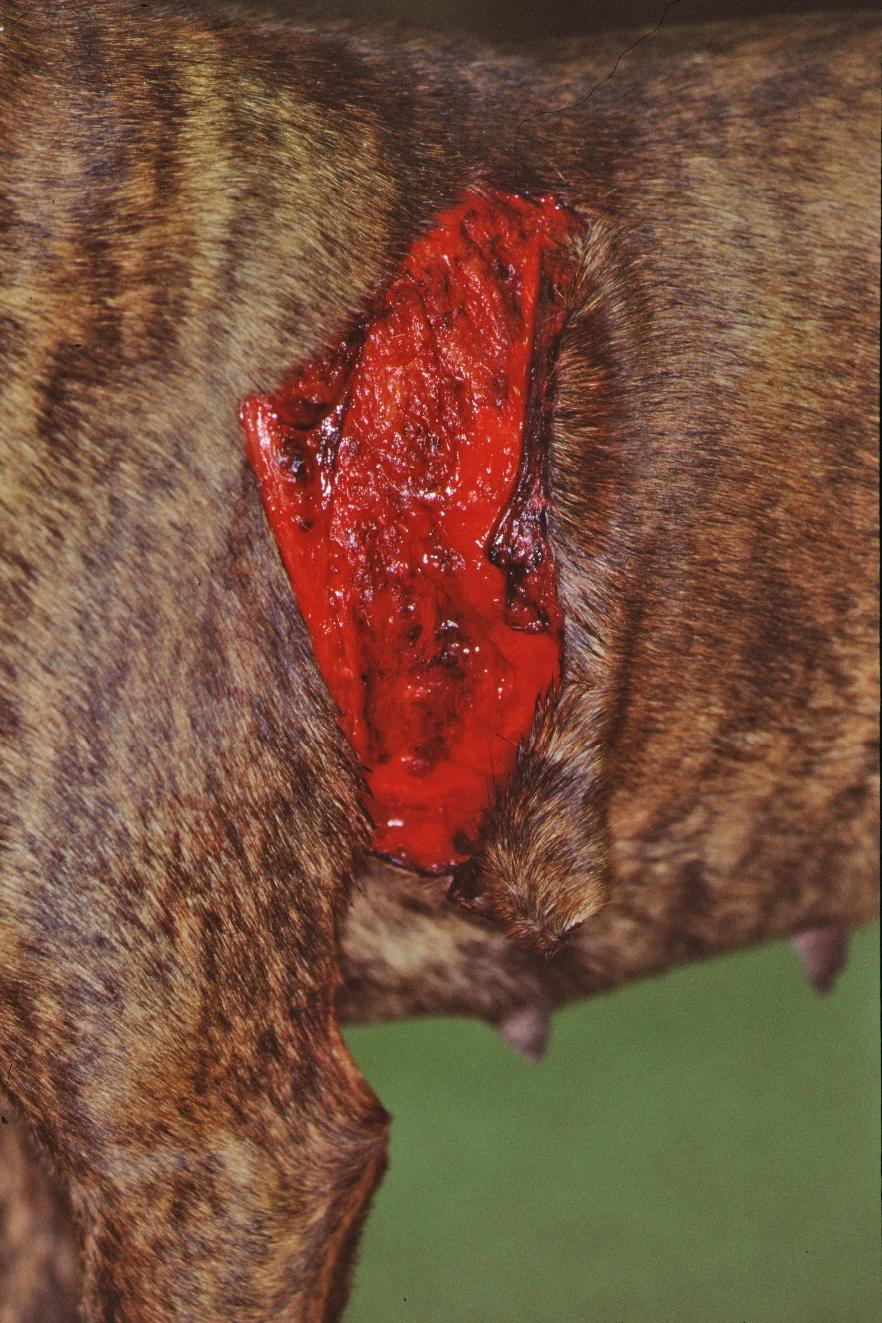bleeding: (362, 313, 518, 875)
